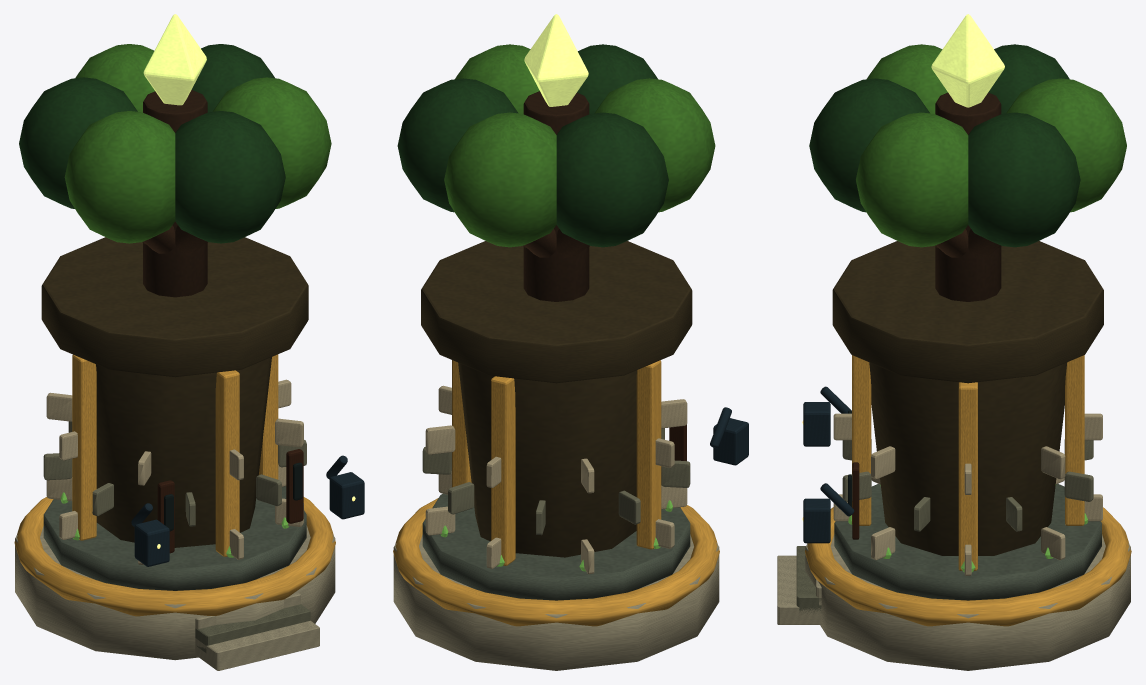
The model's file is tower-nature-1-base.glb.
3 views of the same model, side by side, from view 1: azimuth 30°, elevation 25°; view 2: azimuth 150°, elevation 25°; view 3: azimuth 270°, elevation 25° (orthographic).
Parts seen in each view (by area): view 1: Turret, Foundation, nature-L1-base; view 2: Turret, Foundation, nature-L1-base; view 3: Turret, Foundation, nature-L1-base.
Boxes of the visible parts, x1=… form: Turret: x1=19, y1=14, x2=331, y2=377; Foundation: x1=14, y1=354, x2=364, y2=670; nature-L1-base: x1=15, y1=486, x2=335, y2=660; Turret: x1=397, y1=14, x2=715, y2=383; Foundation: x1=393, y1=360, x2=748, y2=626; nature-L1-base: x1=393, y1=493, x2=719, y2=670; Turret: x1=809, y1=14, x2=1126, y2=383; Foundation: x1=777, y1=355, x2=1131, y2=626; nature-L1-base: x1=805, y1=484, x2=1130, y2=670.
Bounding box in the file's own units: 1.69 × 3.35 × 1.83.
Materials: 17 (17 with a texture image).
